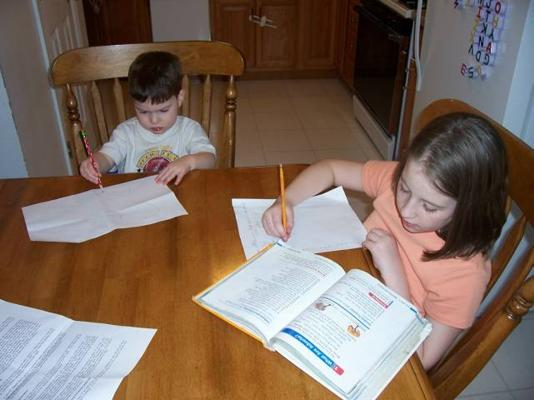person: (262, 111, 508, 371)
